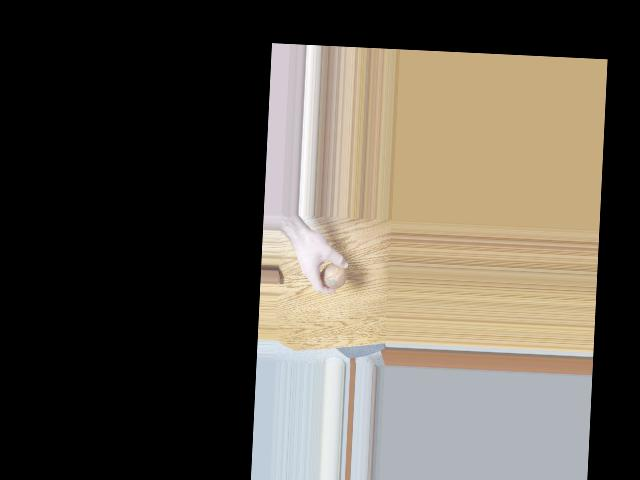onion: (316, 258, 346, 291)
